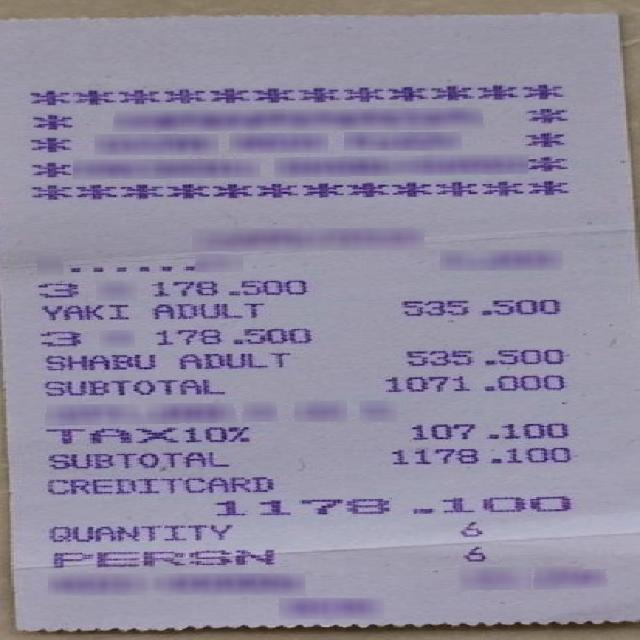kertas: (3, 14, 638, 631)
